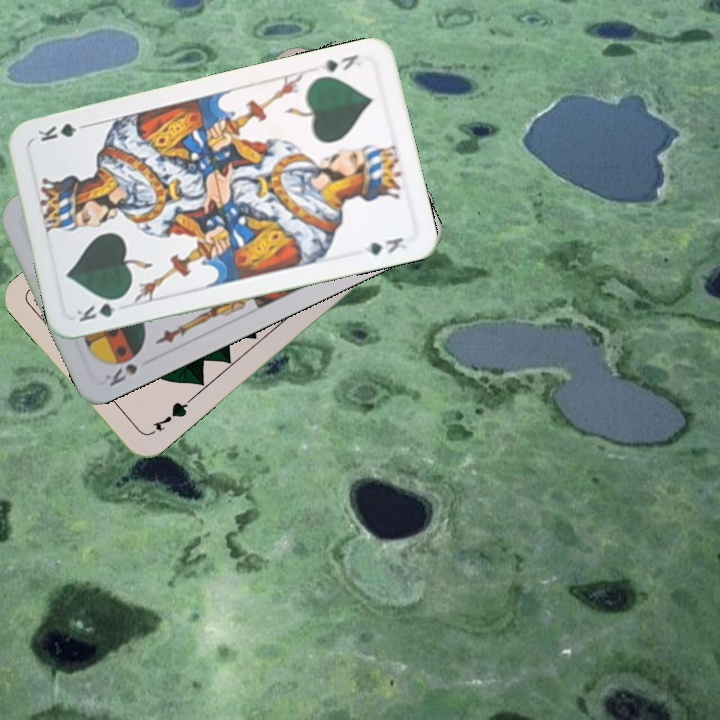G7: (145, 395, 194, 438)
GK: (72, 293, 127, 325), (316, 50, 361, 75)
SK: (101, 359, 140, 389)
